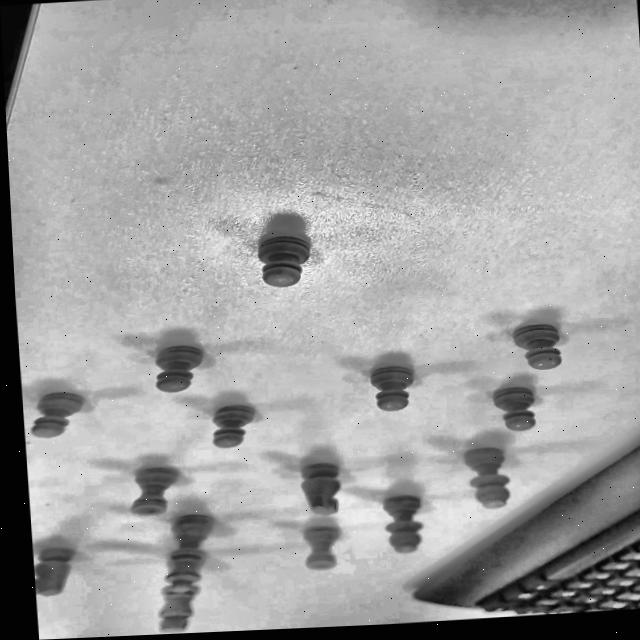white-bishop: (463, 447, 511, 510), (383, 495, 425, 554)
white-king: (141, 547, 229, 633)
white-knight: (299, 459, 350, 518), (33, 545, 76, 596)
white-pawn: (248, 226, 326, 290), (24, 390, 82, 438), (151, 345, 205, 394), (511, 323, 561, 372), (370, 365, 415, 413), (211, 405, 257, 450), (494, 388, 538, 434)
white-queen: (151, 512, 239, 593)
white-rook: (117, 459, 193, 517), (295, 524, 345, 572)
